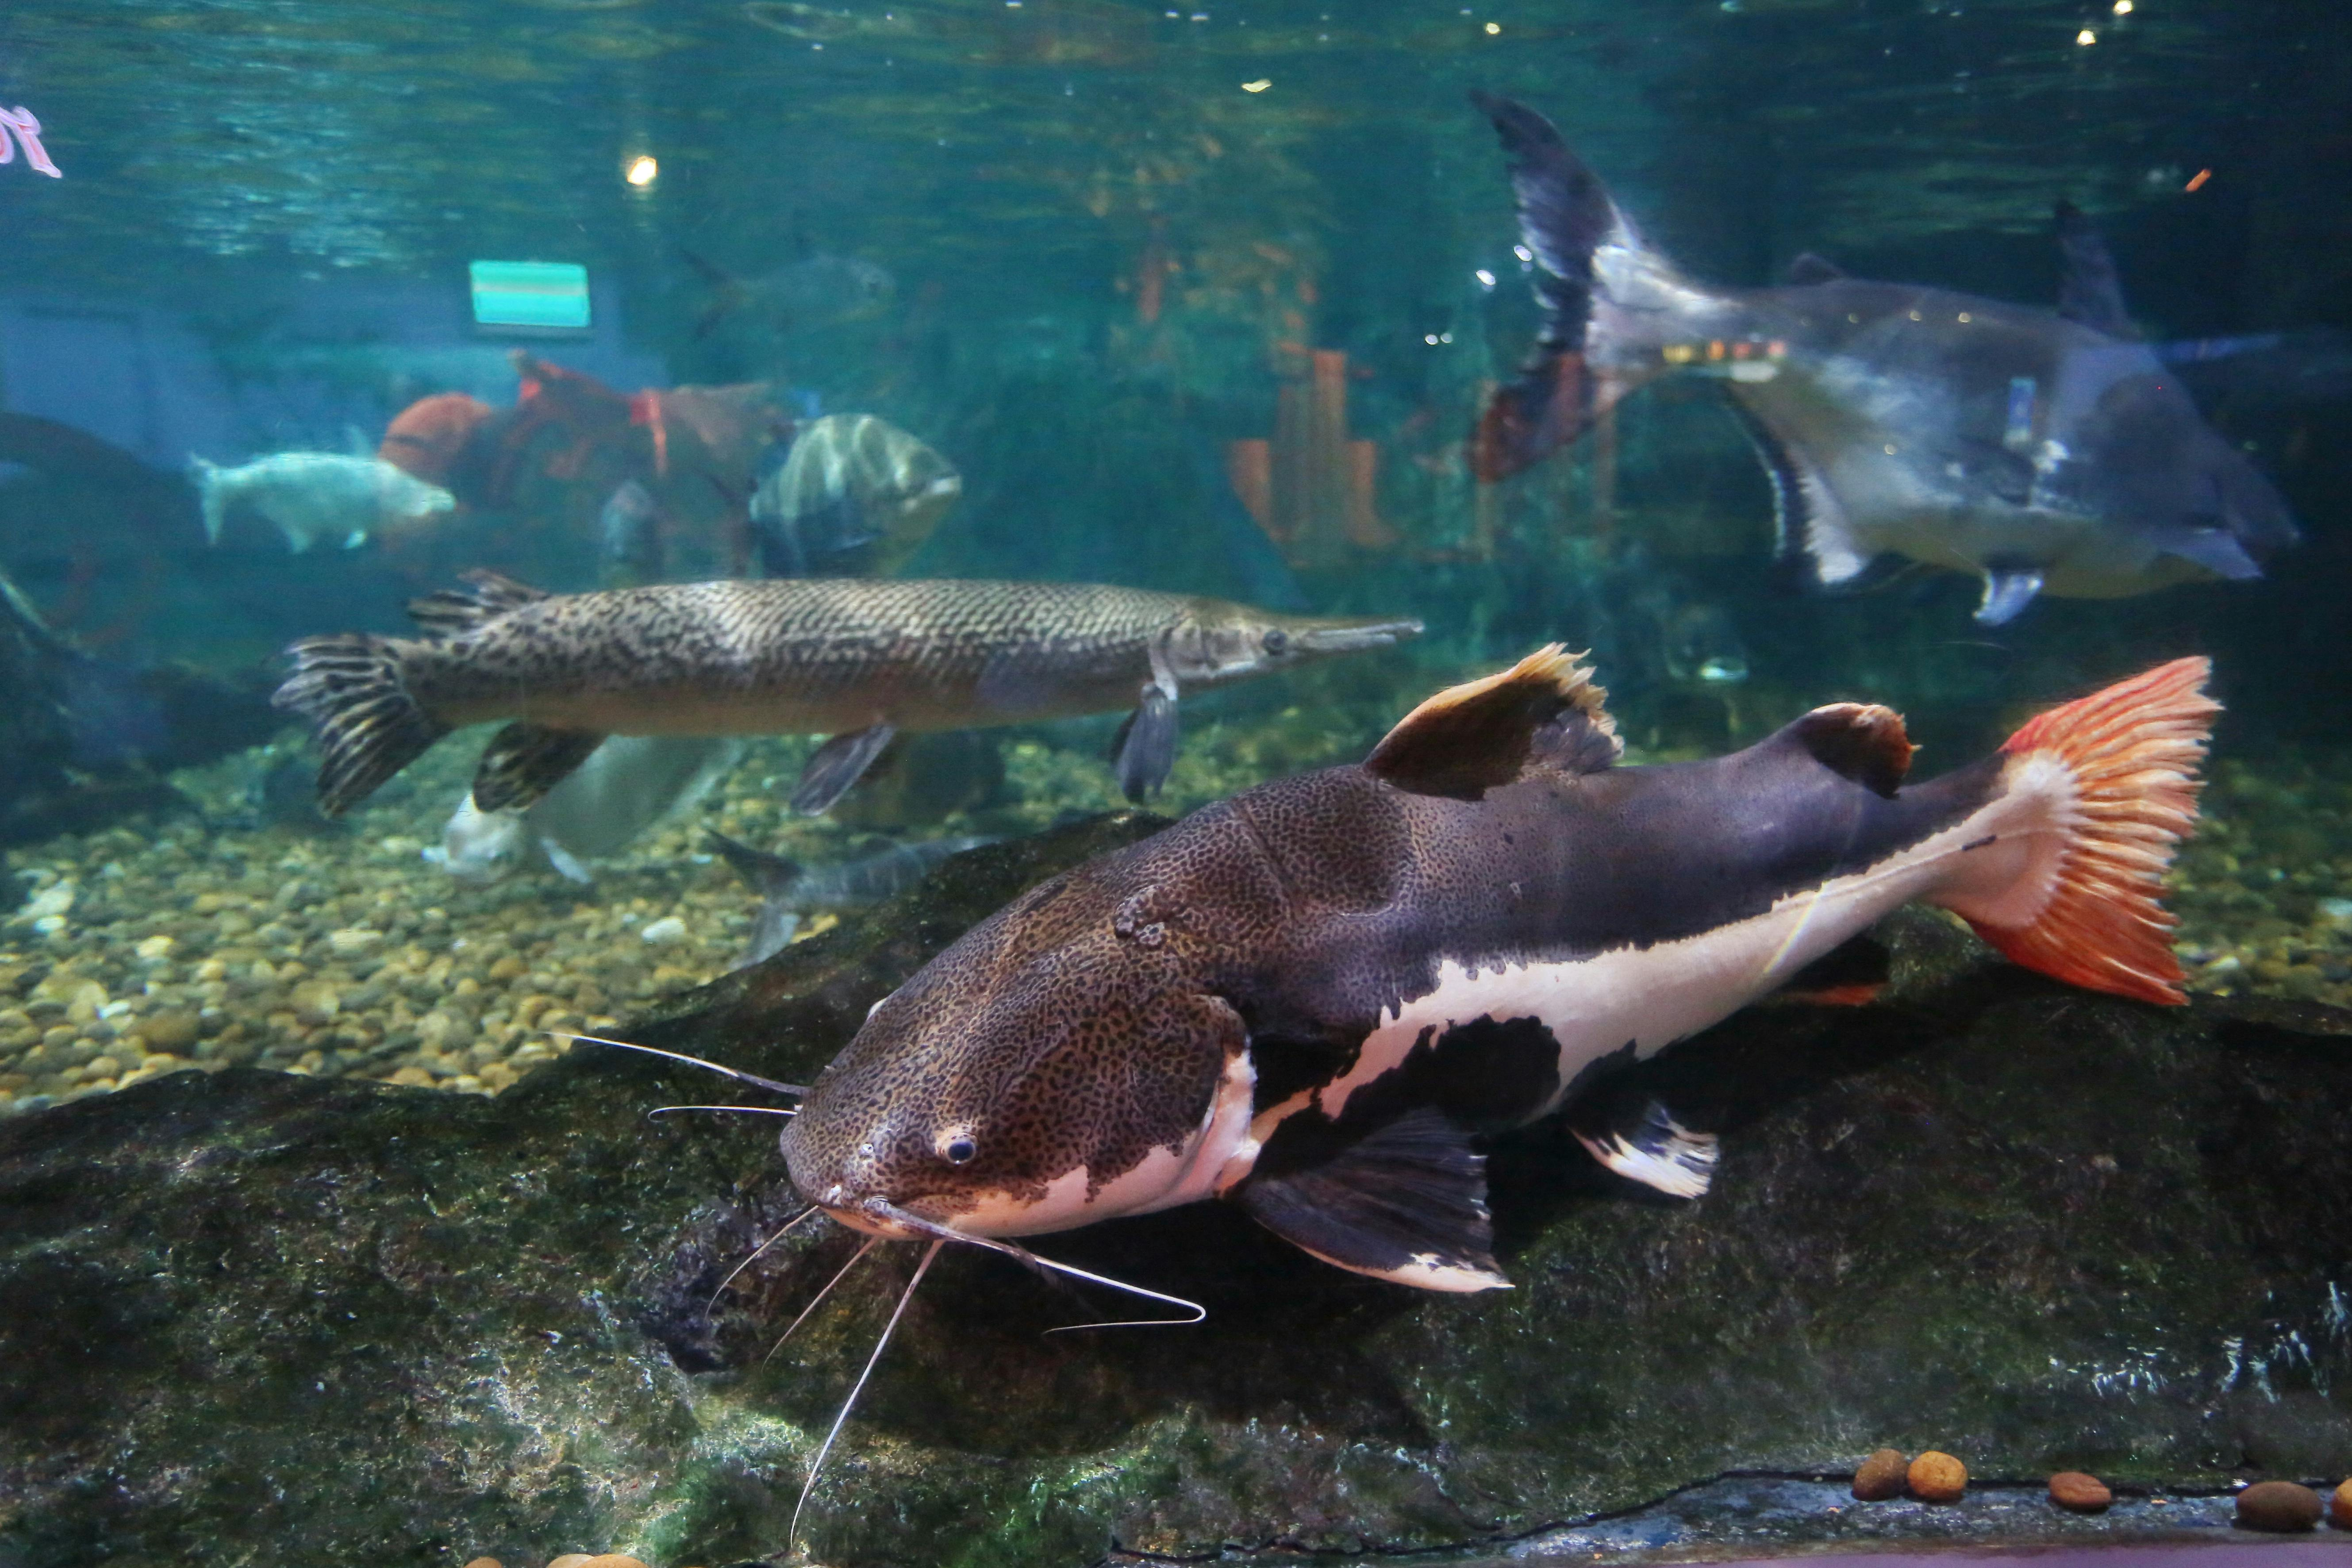fishLarge: (525, 639, 2226, 1547), (1461, 77, 2303, 625), (257, 558, 1430, 817), (420, 717, 737, 896), (696, 404, 966, 585), (703, 821, 1011, 966), (187, 427, 457, 558)
fishSmall: (674, 215, 901, 348)
